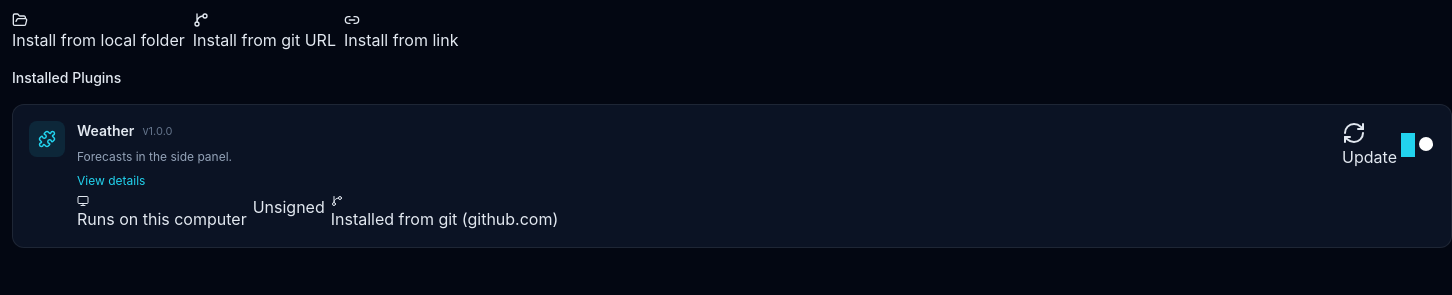
Scenario: PluginSettingsPage — updating a plugin › updates a git plugin by its id and says which version it now runs
Click the button "Update". click: (1370, 145)
box: [1342,121,1397,169]
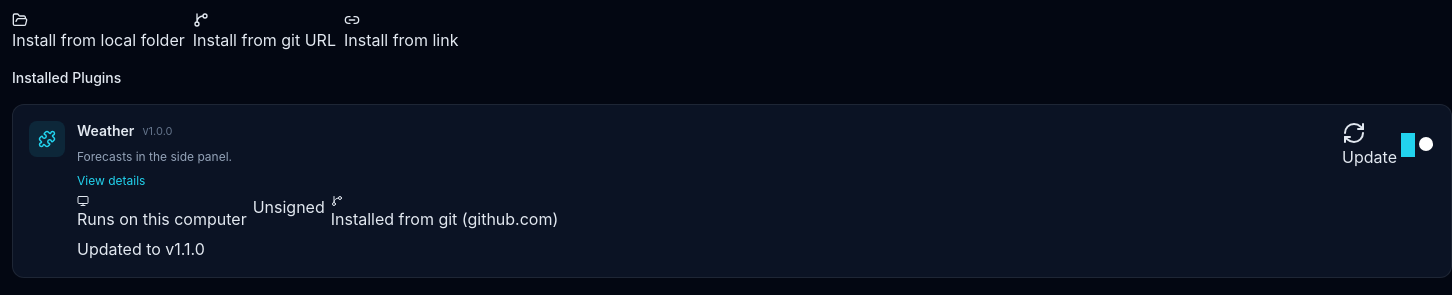
Result: the text "Updated to v1.1.0" is shown at [77,238,205,258]
